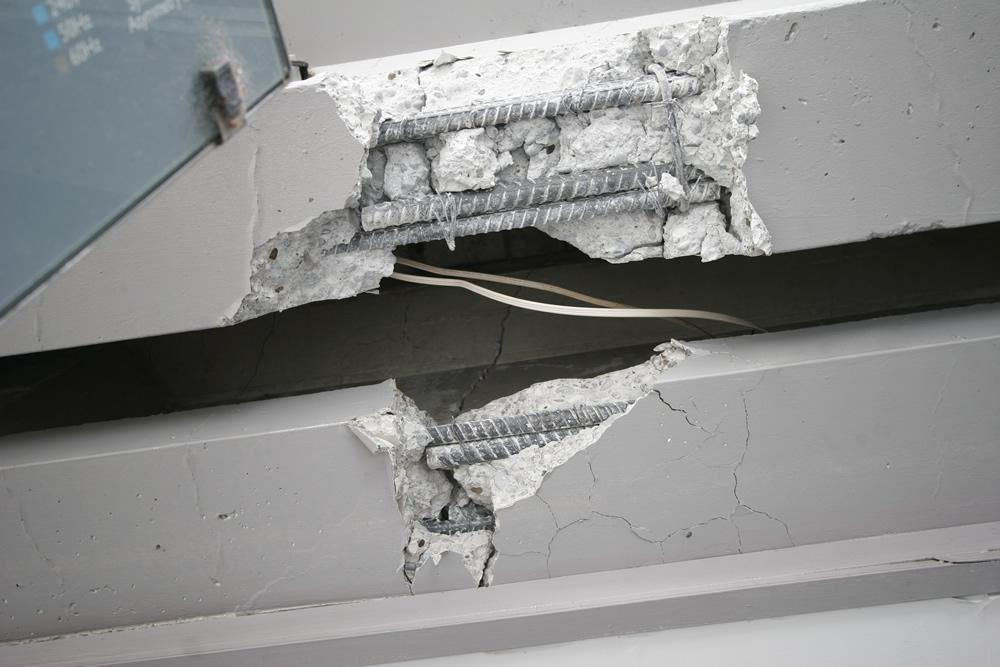exposed_rebar: (328, 68, 721, 254), (426, 402, 629, 468), (422, 517, 494, 534)
spalling: (221, 16, 771, 323), (348, 340, 695, 580)
